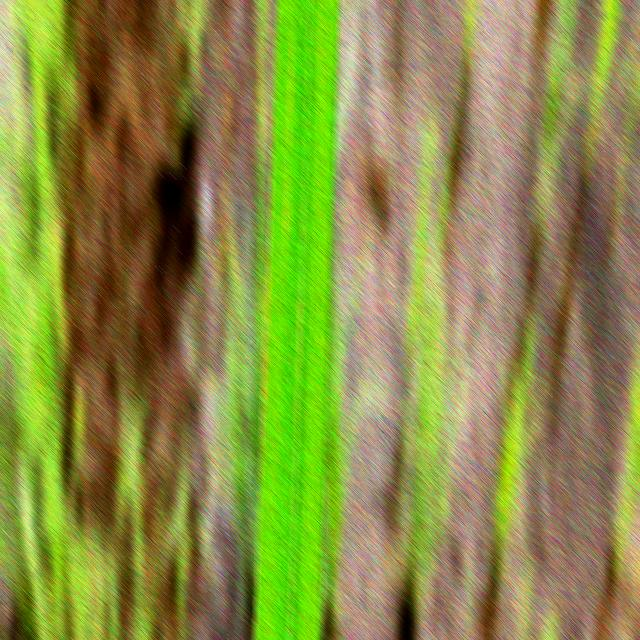NBS: (260, 254, 268, 469)
